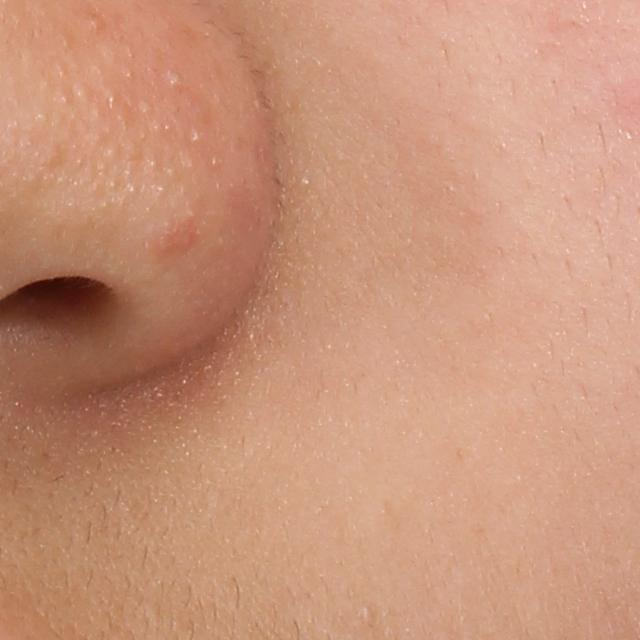comedo: (160, 63, 187, 92), (85, 12, 108, 42), (71, 80, 95, 107), (100, 141, 122, 165), (188, 124, 208, 147), (134, 95, 154, 116), (149, 181, 170, 199), (122, 181, 141, 199), (358, 602, 375, 622), (28, 110, 49, 126), (143, 155, 161, 173), (159, 162, 178, 179)
